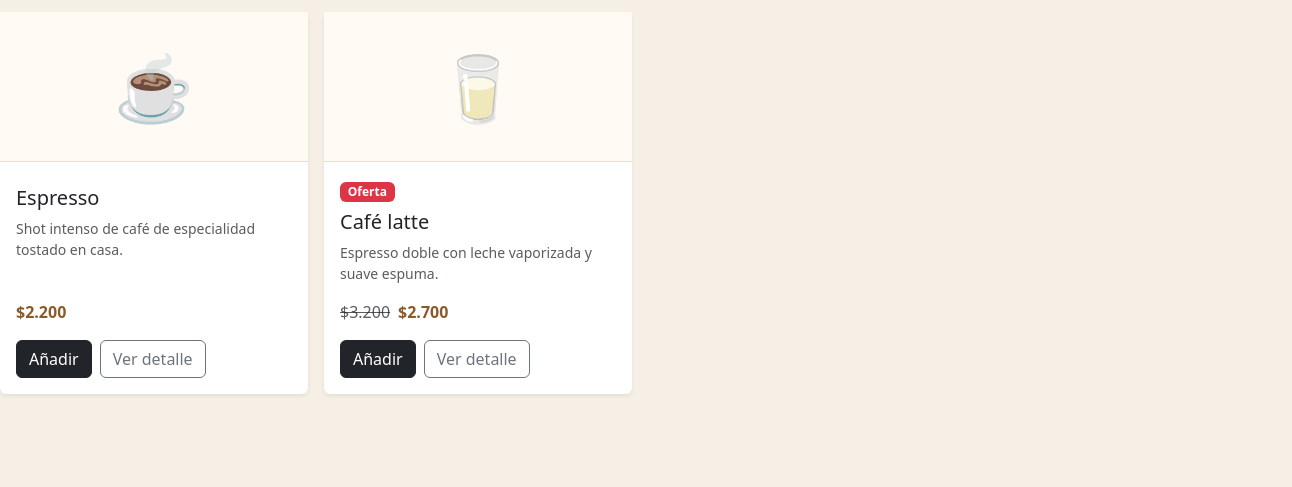
Scenario: Agregar productos al carrito › al presionar "Añadir" se guarda en el carrito y aparece un aviso
Click the button "Añadir" below "$2.200" at point(54, 359), box x1=16 y1=340 x2=92 y2=378
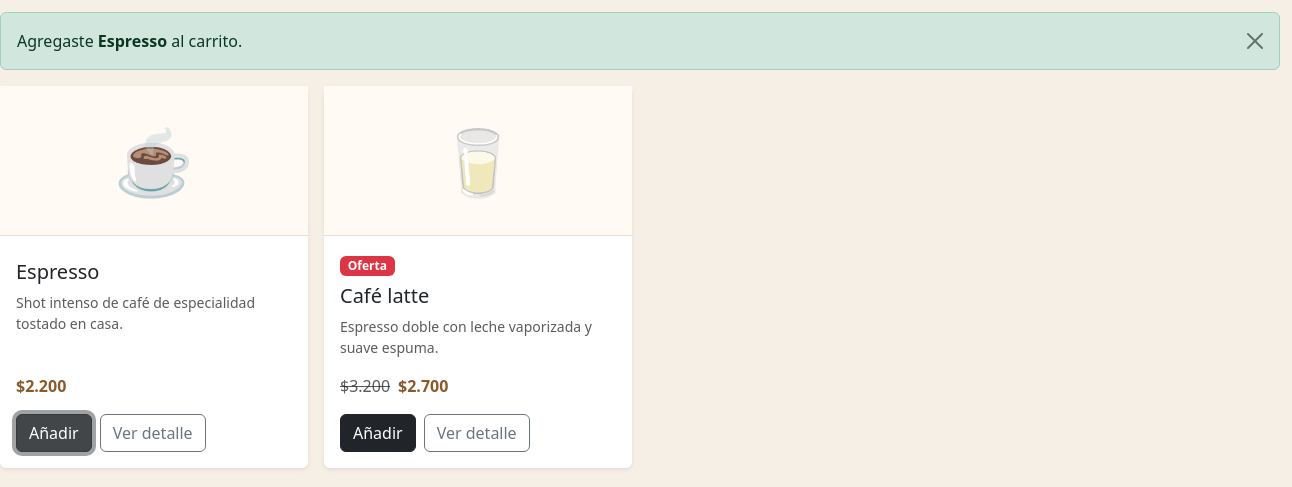
Expected: the message shows "Agregaste Espresso al carrito", x1=0 y1=12 x2=1280 y2=70
